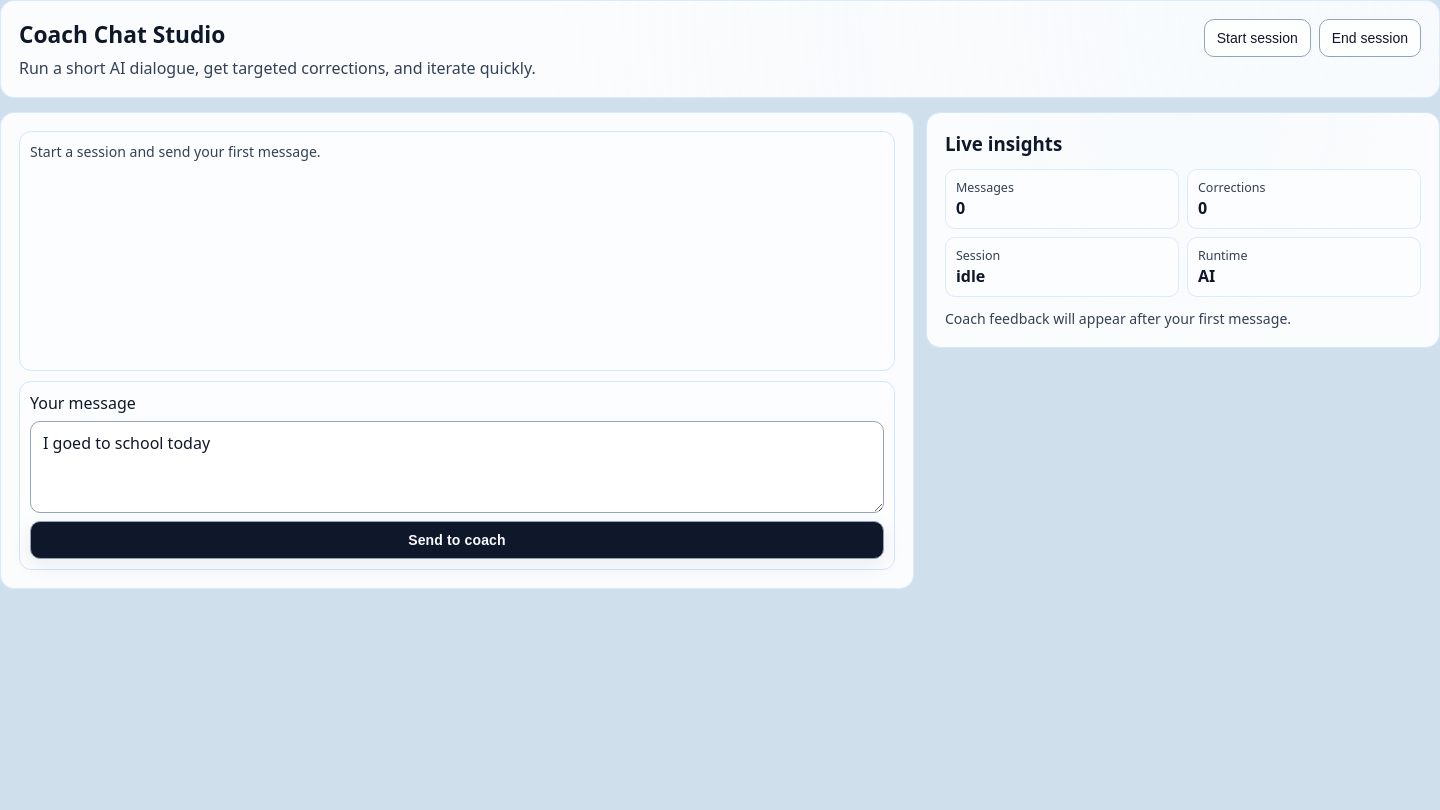
ChatPage › starts session, sends message and renders rubric
Click the button "Start session". click: (1257, 38)
box: [1204, 19, 1311, 57]
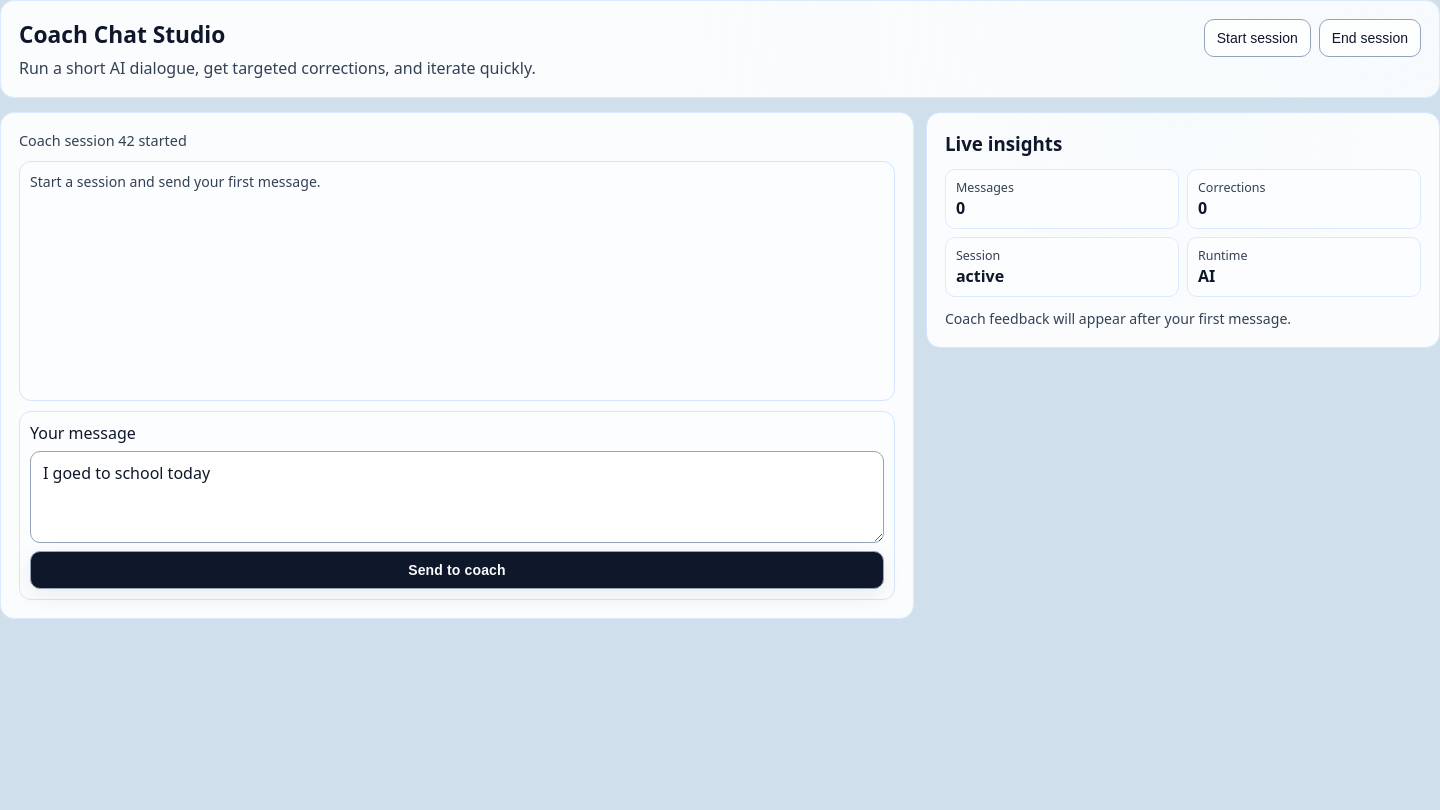
Expected: the text "Coach session 42 started" is shown, [19, 131, 187, 150]
Click the button "Send to coach". click: (457, 570)
box: [30, 551, 884, 589]
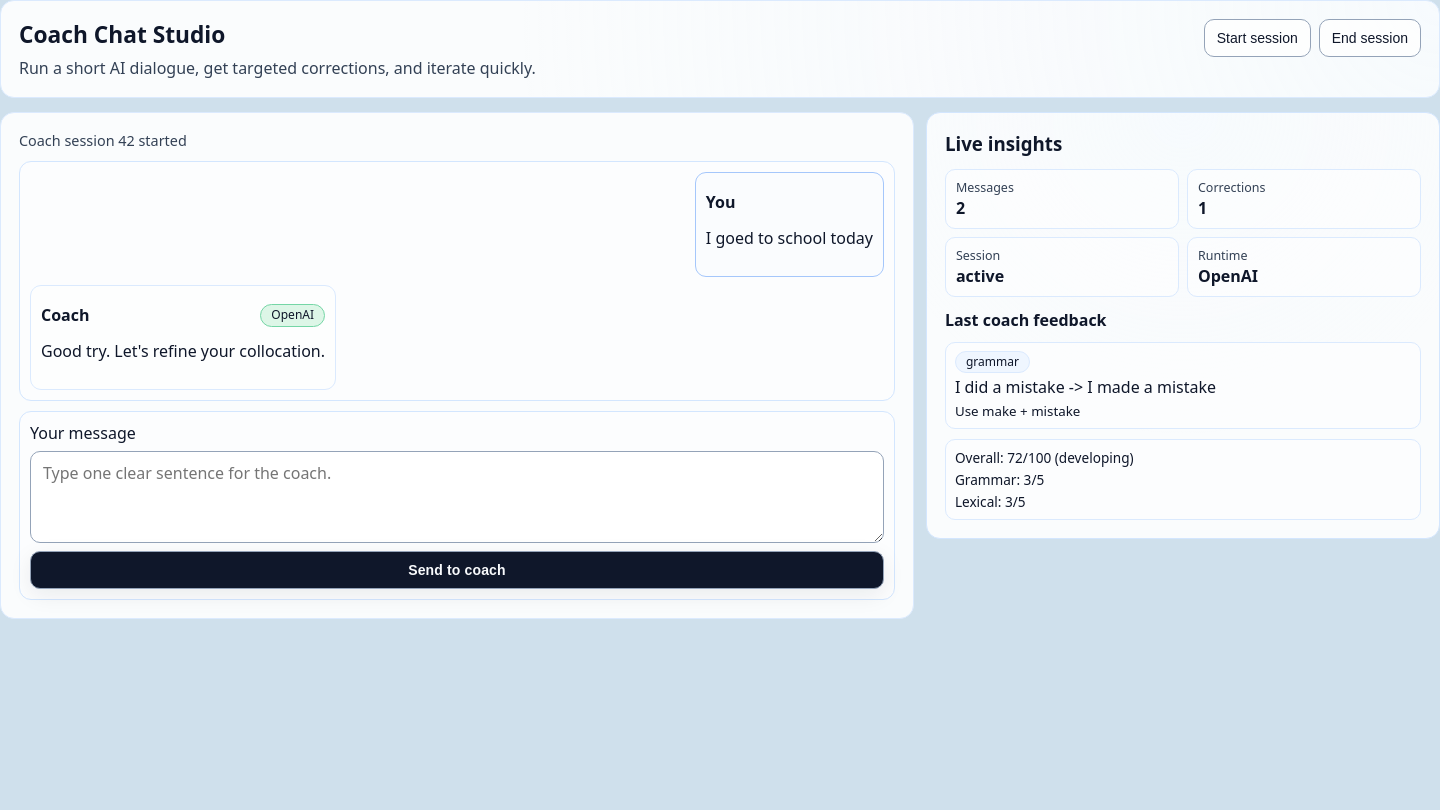
Expected: the heading "Last coach feedback" is shown, [945, 309, 1106, 331]
Expected: the text "Overall: 72/100 (developing)" is shown, [955, 448, 1134, 467]
Expected: the text "Grammar: 3/5" is shown, [955, 470, 1044, 489]
